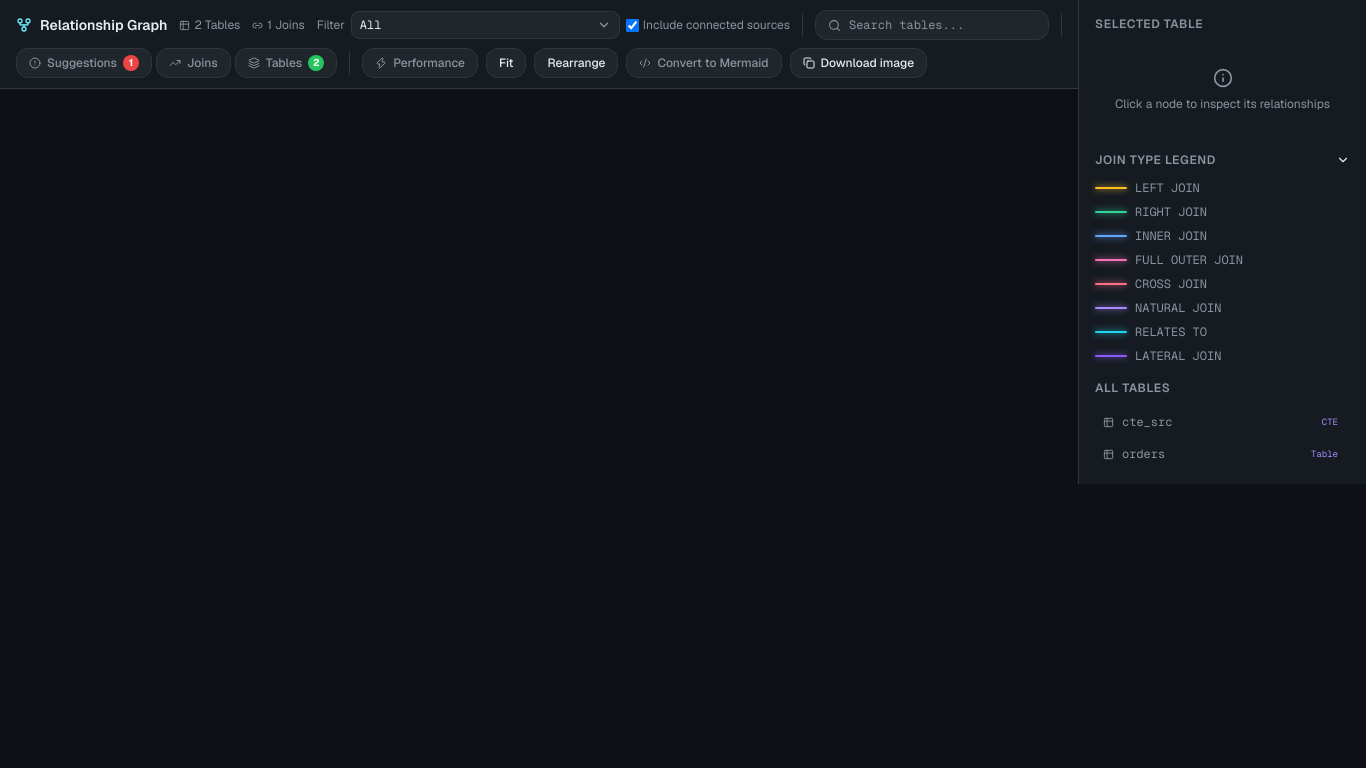
it: keyboard travel and dismiss (019 A18, A29, U28) › A18: keyboard travel reaches toolbar controls, search results, the source list, and dismiss
Click the button "Suggestions 1" at (84, 63), box [16, 48, 152, 78]
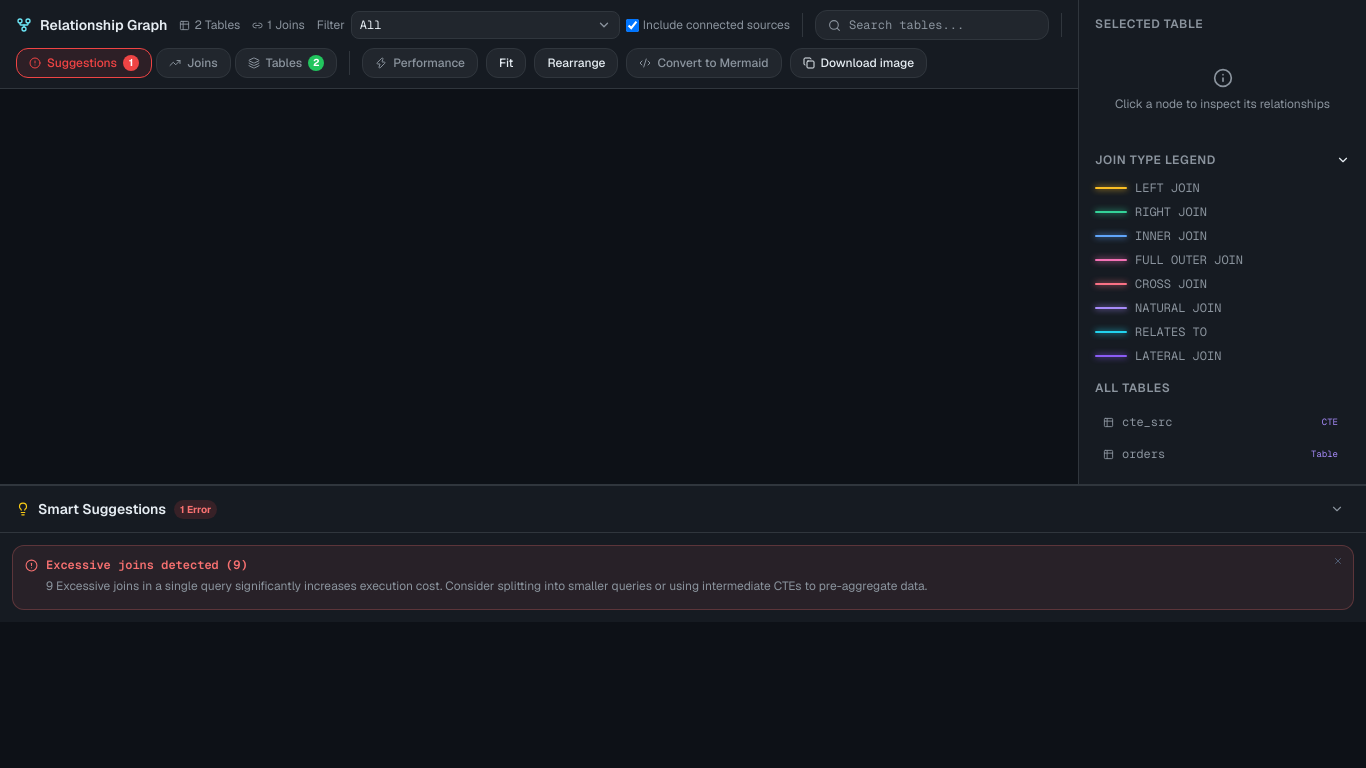
Expected: the button named "Dismiss suggestion" is shown, [1331, 554, 1345, 568]
